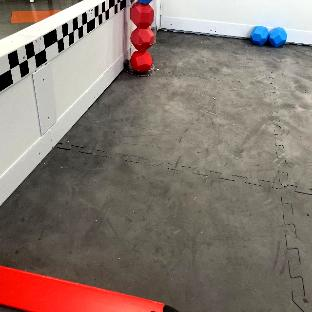V5_BLUE: (250, 25, 287, 47)
V5_RED: (0, 267, 162, 310), (131, 2, 154, 27), (130, 49, 152, 72), (131, 27, 154, 49)
